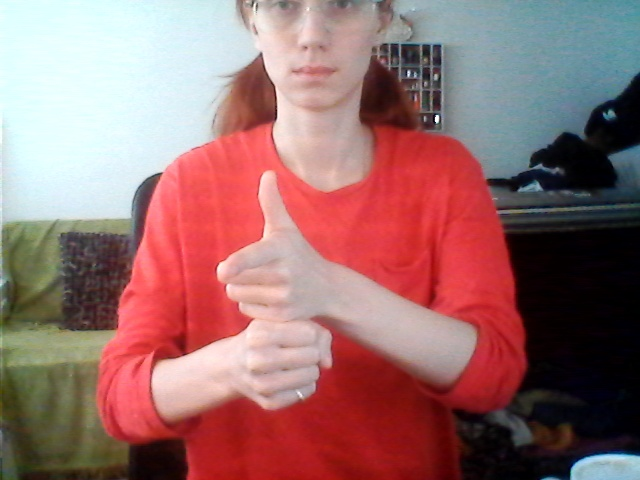kamera: (212, 164, 356, 425)
